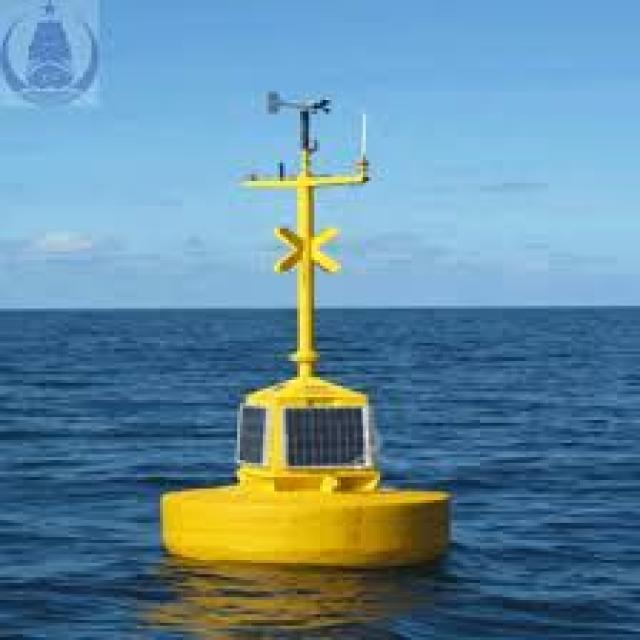marque: (154, 67, 467, 589)
